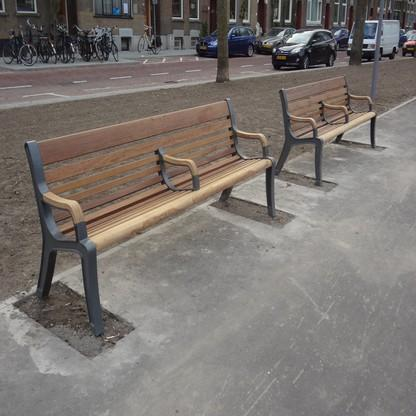obstacle: (12, 82, 258, 330), (276, 74, 390, 175)
